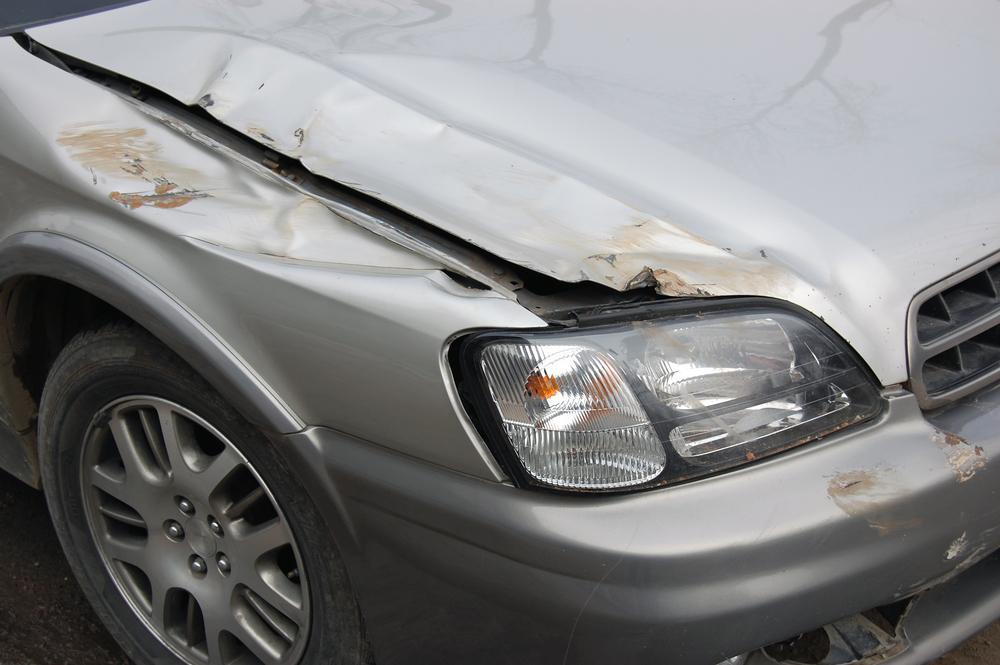dent: (95, 30, 739, 297), (54, 96, 444, 271)
scratch: (820, 427, 1000, 565)
